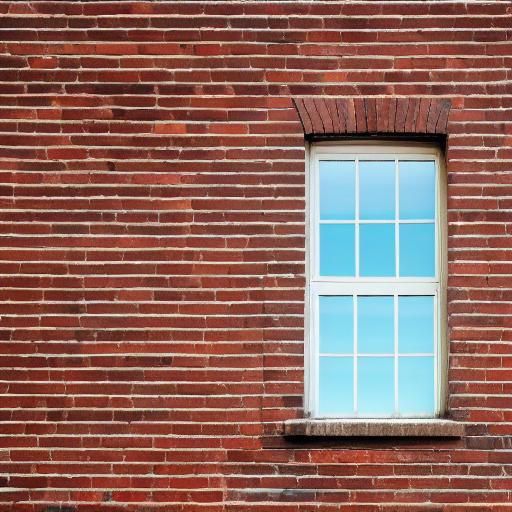Window: (281, 95, 468, 440)
